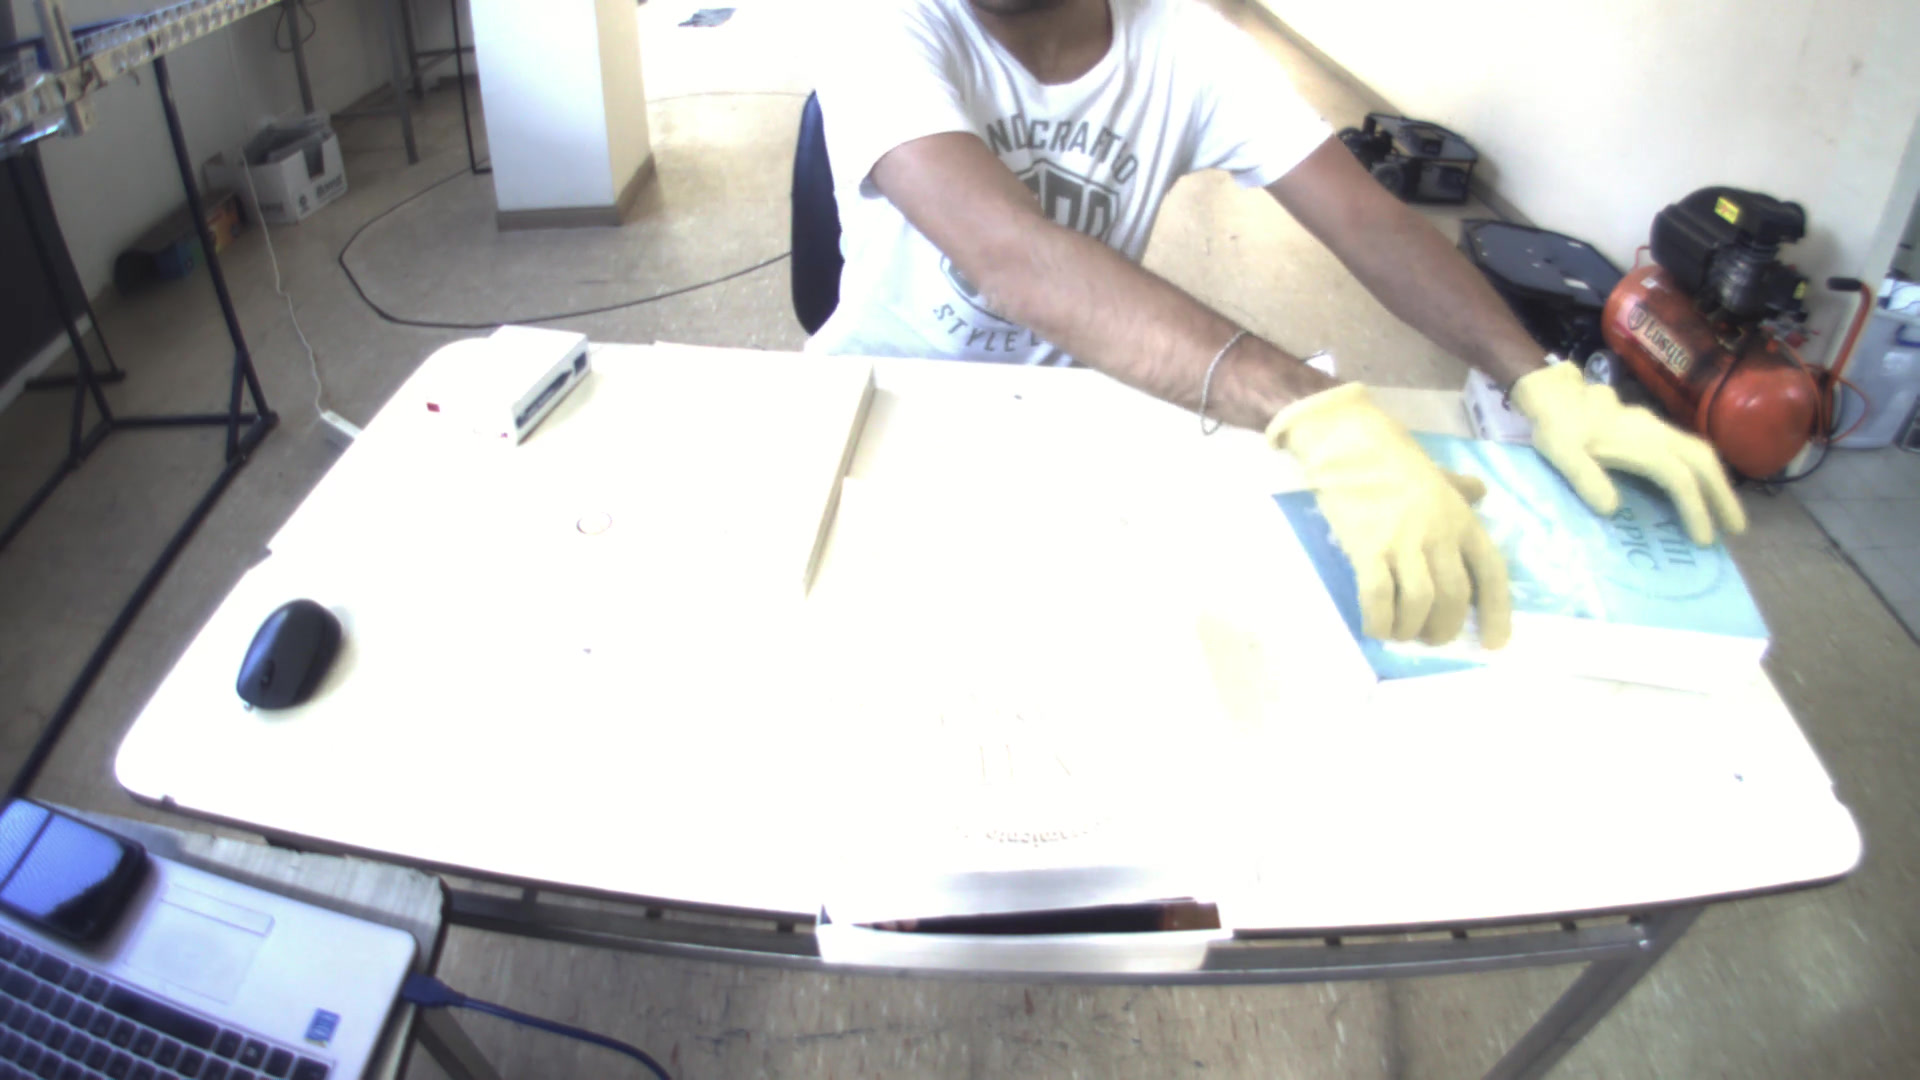hand: (1266, 371, 1528, 655), (1509, 348, 1749, 535)
